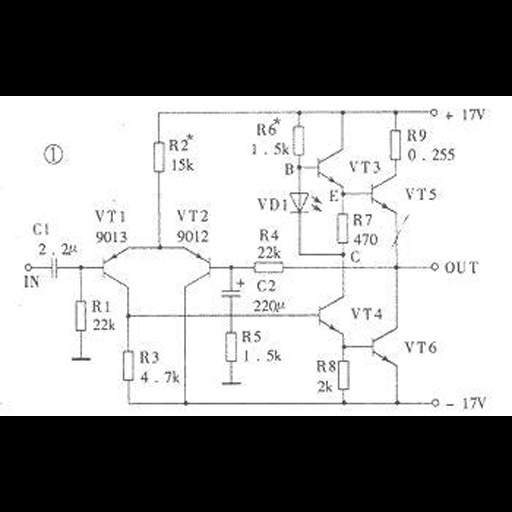capacitor: (47, 256, 61, 280)
firstpolarcapacitor: (218, 278, 247, 302)
firstresistance: (334, 355, 356, 393), (331, 207, 351, 245), (150, 136, 167, 179), (386, 126, 404, 164), (72, 296, 89, 336), (222, 328, 239, 366), (120, 347, 137, 384), (249, 259, 288, 275), (291, 121, 307, 158)
npn: (314, 146, 348, 189), (368, 325, 402, 368), (368, 174, 401, 213)
pnp: (177, 244, 218, 292), (93, 241, 135, 286)
secondled: (286, 189, 324, 214)
